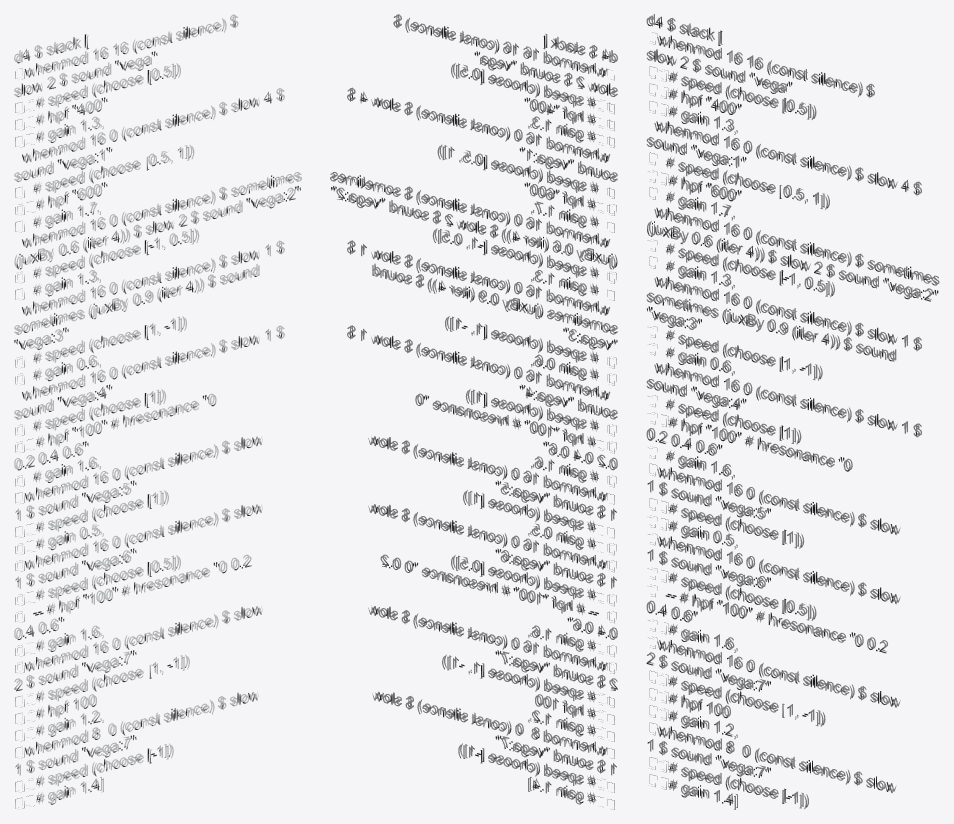
File: kap_acma_kodu2.fbx
The picture shows the model from 3 angles, left to right: view 1: azimuth 30°, elevation 25°; view 2: azimuth 150°, elevation 25°; view 3: azimuth 330°, elevation 25°; orthographic projection.
Visible parts, largest first — view 1: Object_2; view 2: Object_2; view 3: Object_2.
Boxes of the visible parts, x1,y1,x2,y2 form: Object_2: (14, 14, 301, 808); Object_2: (330, 14, 617, 809); Object_2: (646, 14, 939, 809).
Bounding box in the file's own units: 157 × 400 × 1.88.
1 material, 1 textured.
